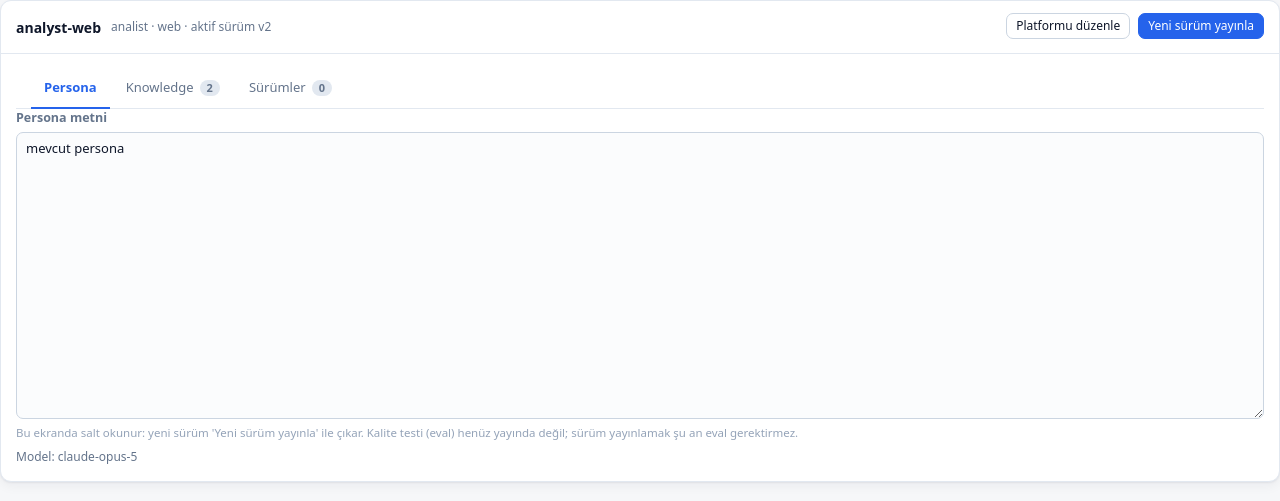
variant detail — knowledge tab, targeted guidance › lists ONLY this agent's notes — global and other-agent notes stay out
The width and height of the screenshot is (1280, 501).
Click the tab "Knowledge 2" at (173, 89), box [113,69,233,108]
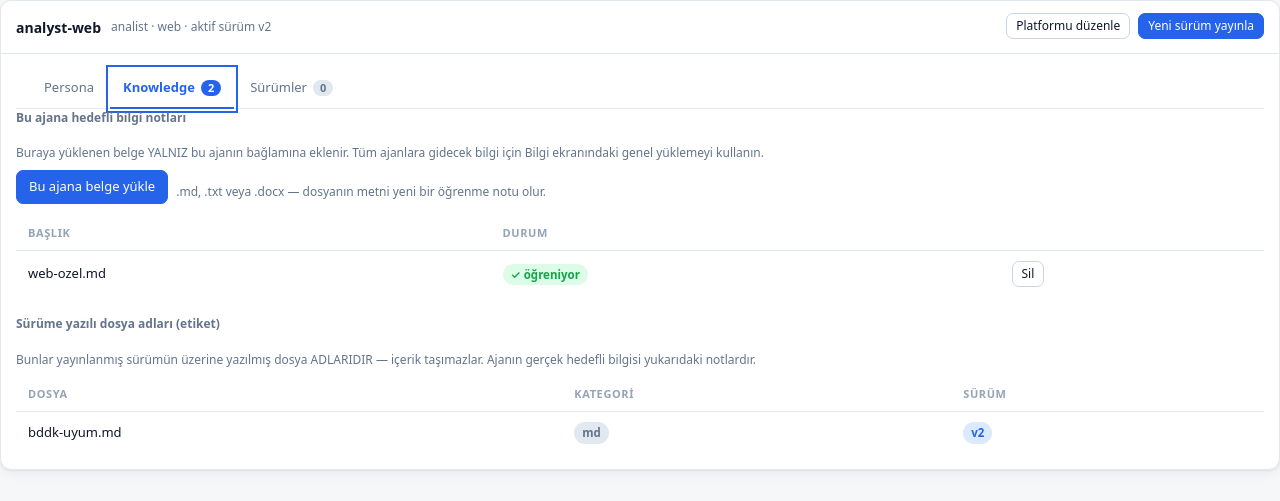
Result: the text "web-ozel.md" is shown at [16,251,491,297]
Result: the text "bddk-uyum.md" is shown at [16,412,562,454]
Result: the heading "Sürüme yazılı dosya adları (etiket)" is shown at [16,315,220,332]
